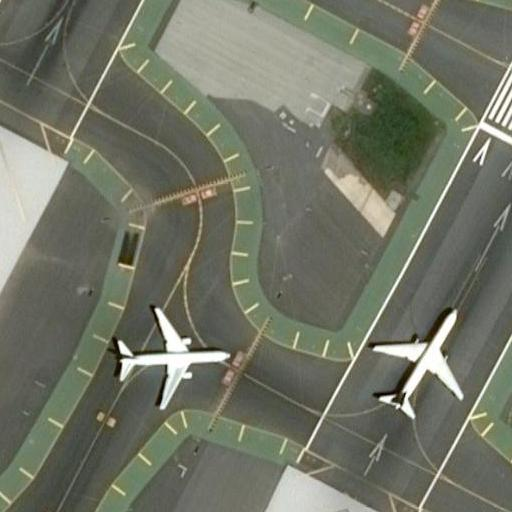Aircraft: (106, 299, 229, 411), (371, 299, 466, 423)
